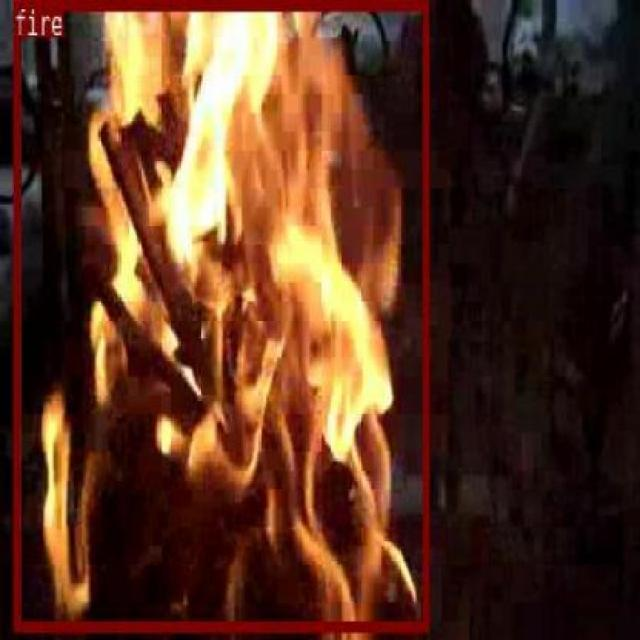Fire: (12, 0, 428, 631)
